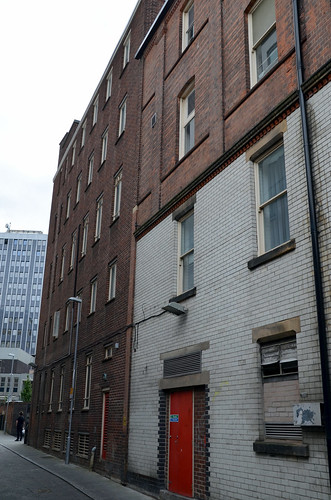building: (136, 1, 331, 491), (23, 4, 146, 458), (1, 229, 44, 361)
